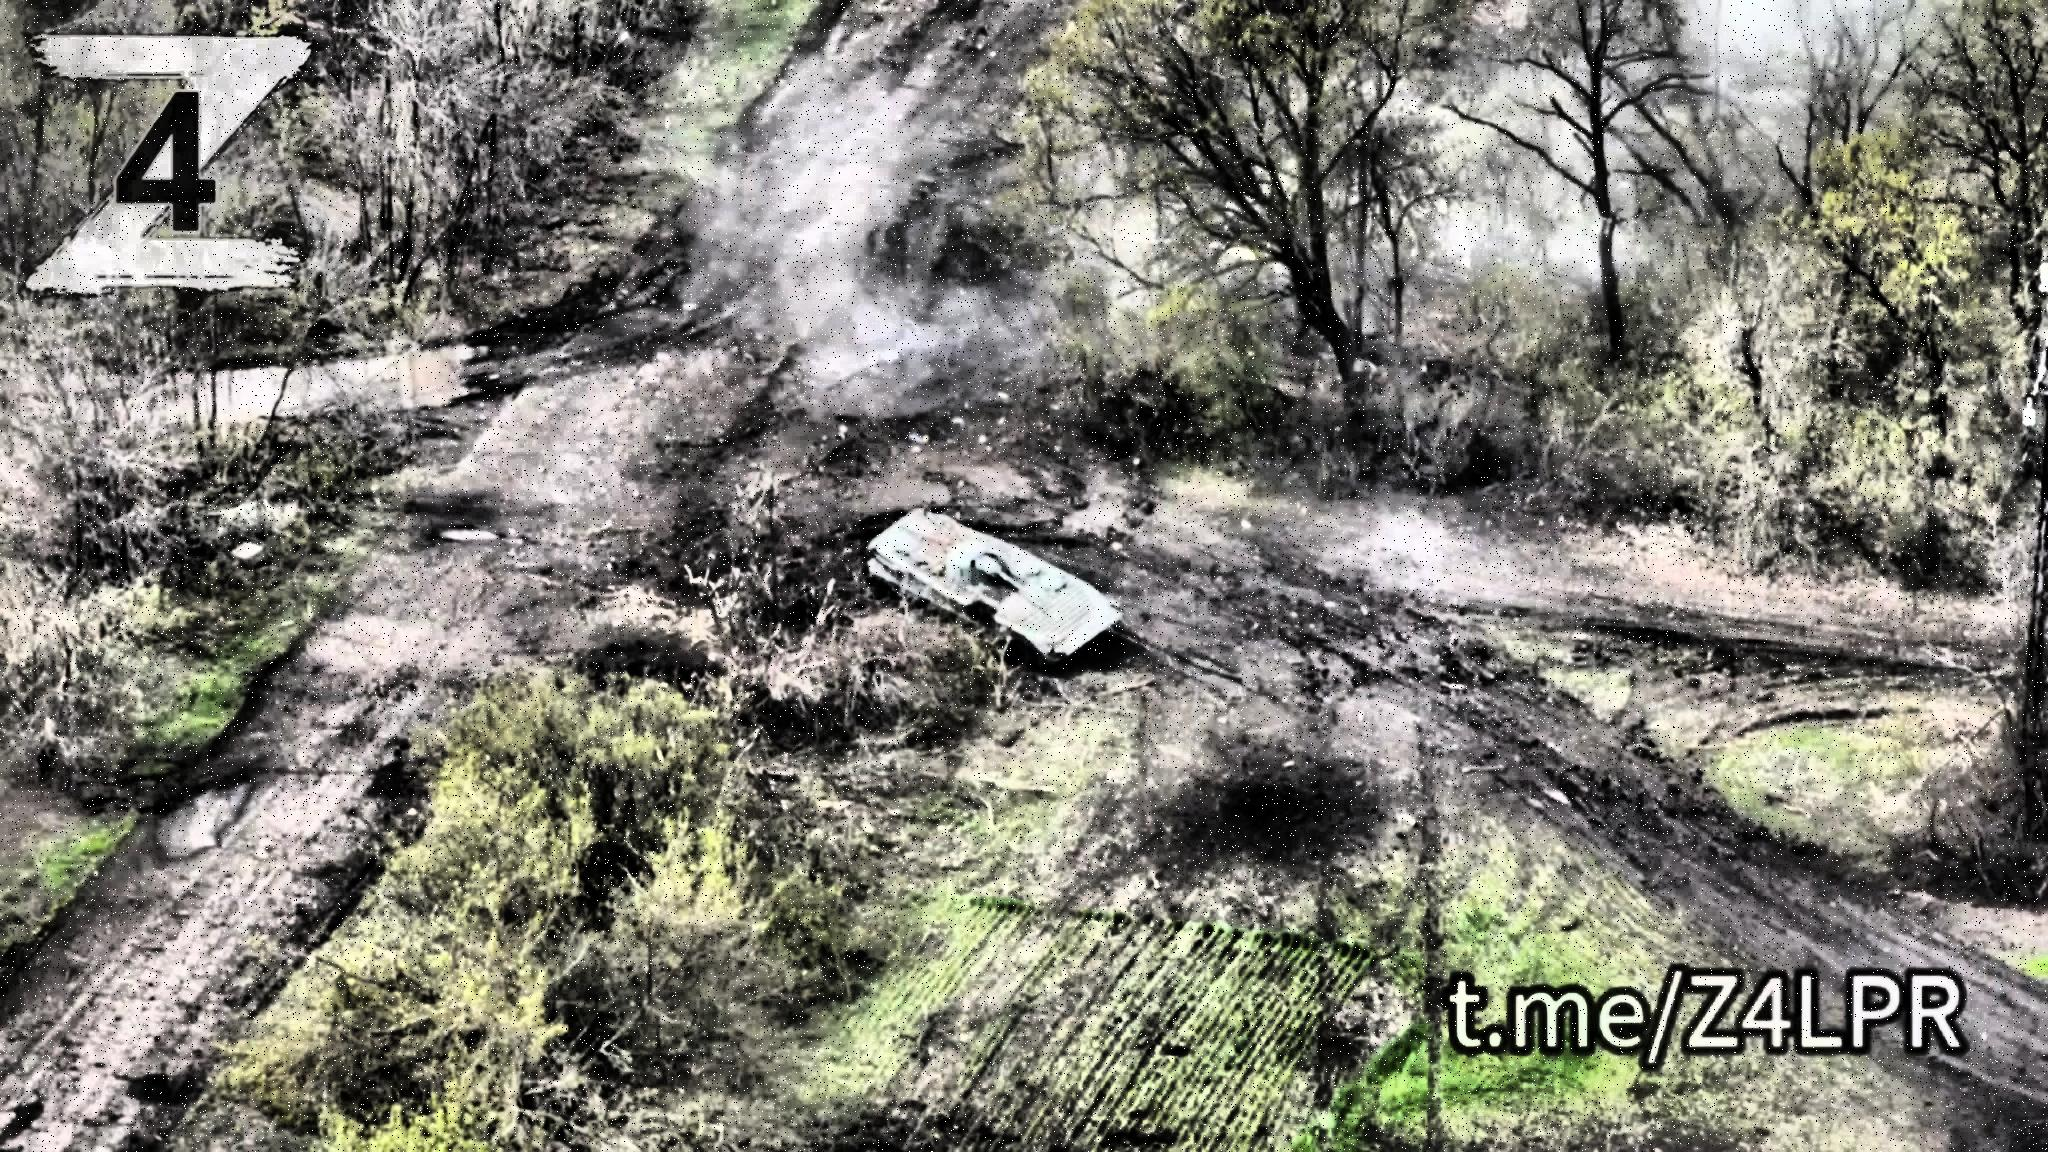military-vehicle: (861, 506, 1124, 672)
